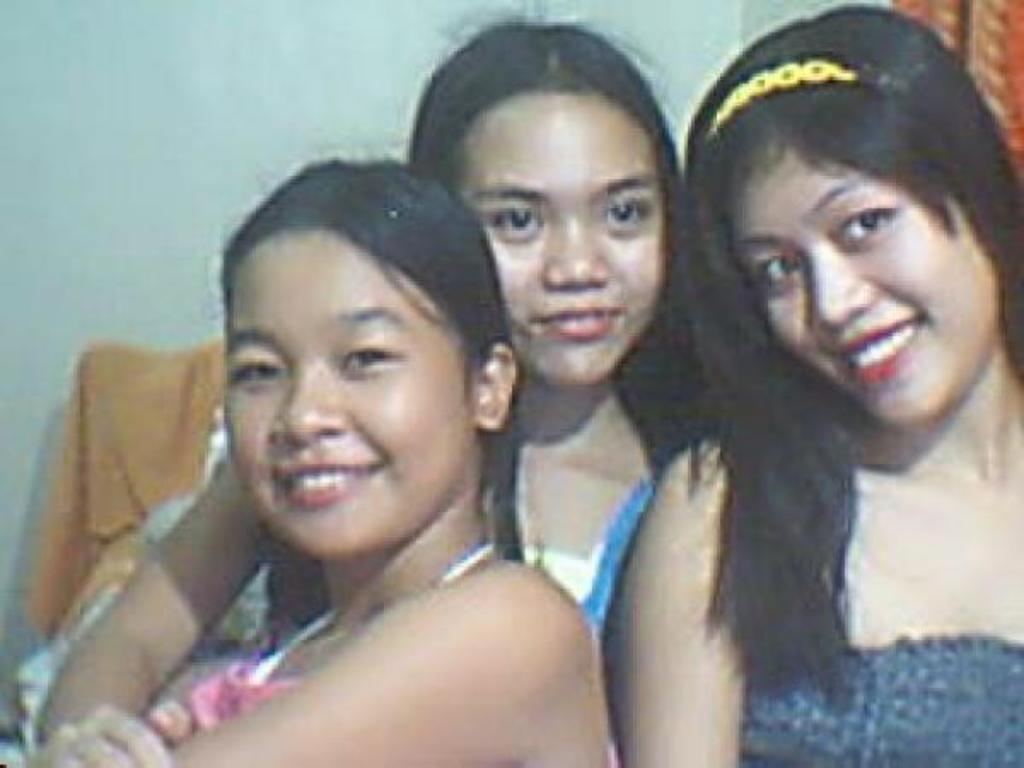Person: (34, 0, 1024, 768)
